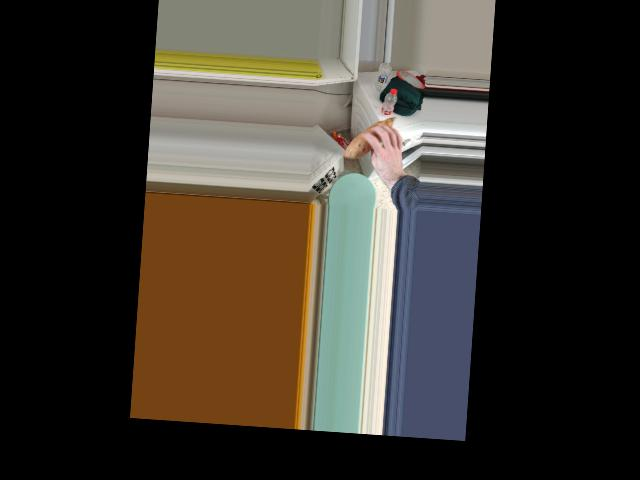sweet_potato: (346, 115, 399, 160)
